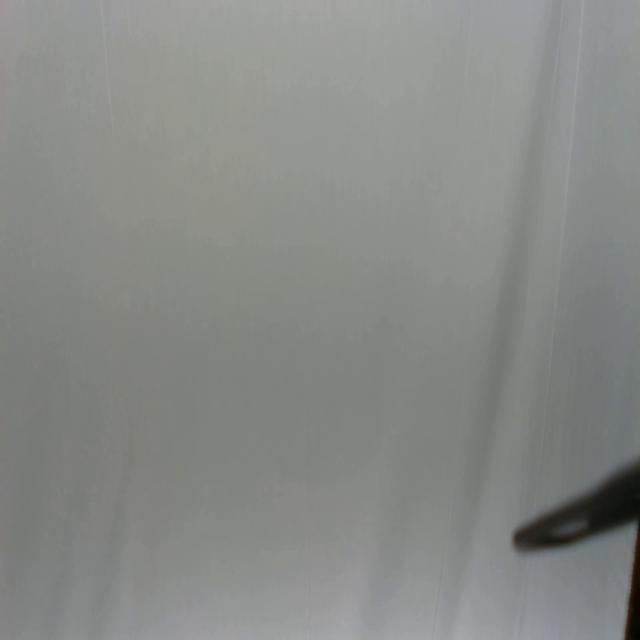crease: (536, 1, 584, 445), (430, 382, 468, 638), (98, 0, 120, 150)
